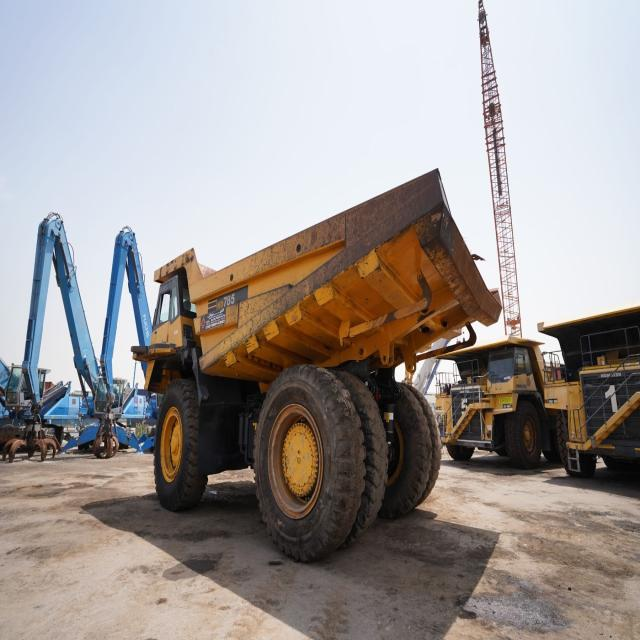dump_truck: (130, 167, 502, 566)
